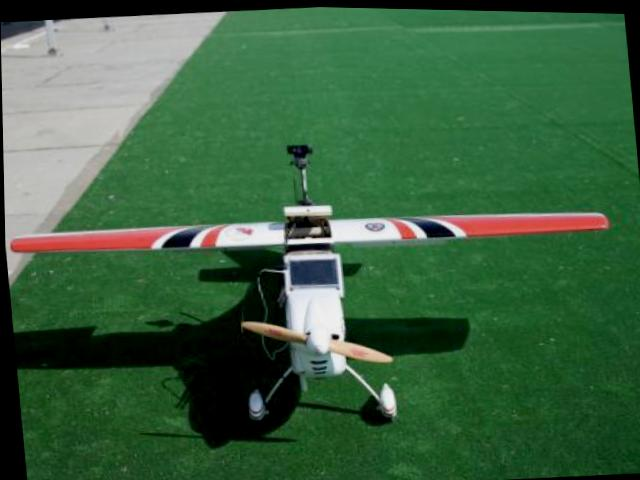uav: (3, 167, 624, 400)
